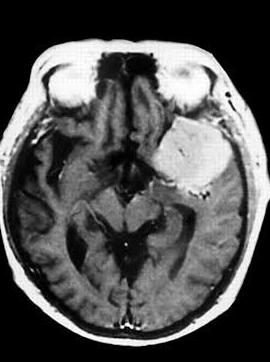Tumour-Meningioma: (152, 111, 236, 204)
